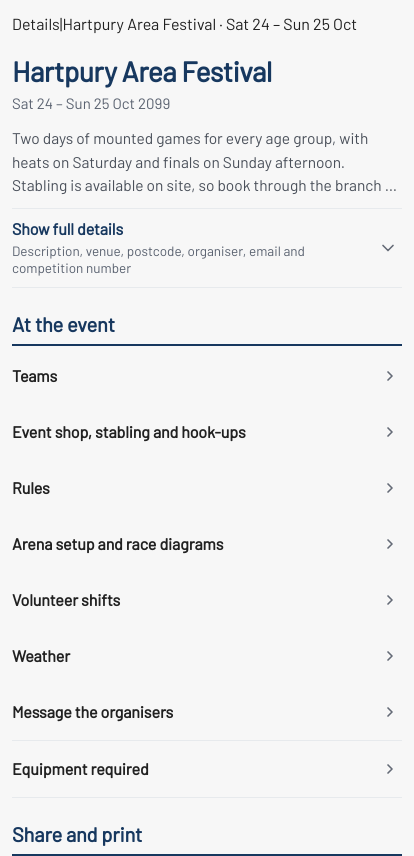
Test case: DetailsTab › shows the postcode with the venue, and the email and competition number, all under Show full details, with the organiser’s own map link
Click the button "Show full details".
click(207, 248)  # box [12,209,402,287]
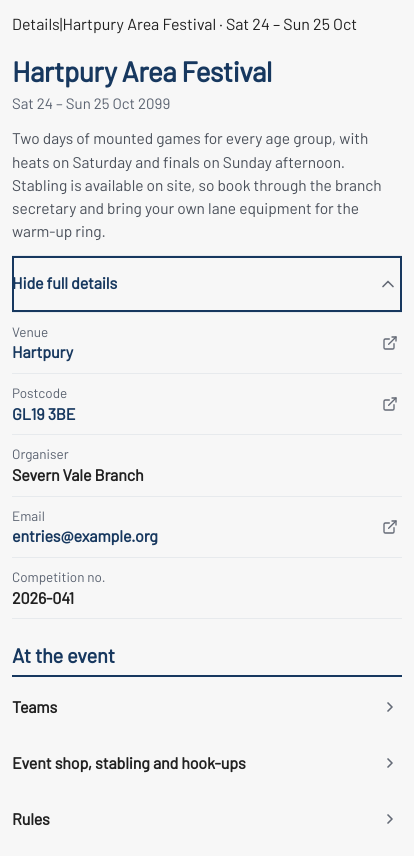
expect the text "Competition no." is shown: met, box [12,568,105,585]
expect the text "2026-041" is shown: met, box [12,588,74,606]
